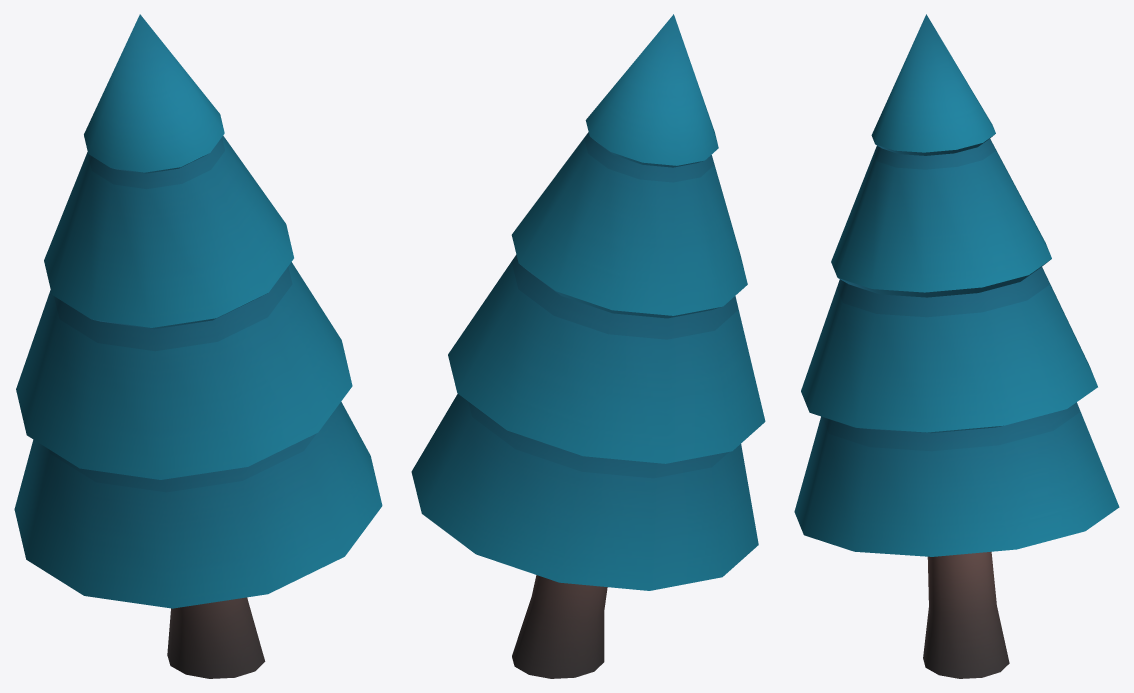
Rendered from Ёлка13.fbx.
3 renders of one model, left to right at view 1: azimuth 30°, elevation 25°; view 2: azimuth 150°, elevation 25°; view 3: azimuth 270°, elevation 25°, orthographic. The views are drawn at different scales.
Visible parts, largest first — view 1: Ёлка13; view 2: Ёлка13; view 3: Ёлка13.
Part boxes in pixels (x1,y1,x2,y2): Ёлка13: (14,14,382,678); Ёлка13: (411,14,765,678); Ёлка13: (794,14,1119,678).
Size of the model in its own units: 59.11 by 120 by 58.69.
